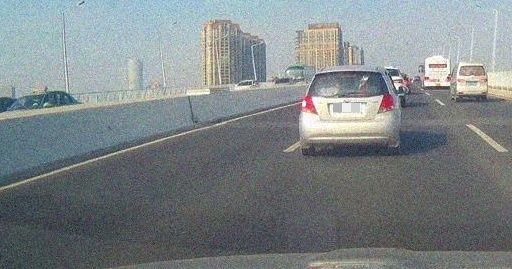L_light: (300, 95, 318, 115), (457, 78, 465, 83), (424, 77, 429, 80)
R_light: (377, 92, 395, 114), (481, 78, 487, 82), (446, 77, 450, 80)
T_light: (340, 73, 356, 77), (469, 65, 474, 67), (435, 59, 439, 61)
day-left: (299, 64, 400, 155)
day-no: (457, 63, 488, 101), (424, 55, 451, 90)
plate_1: (333, 103, 361, 112)
